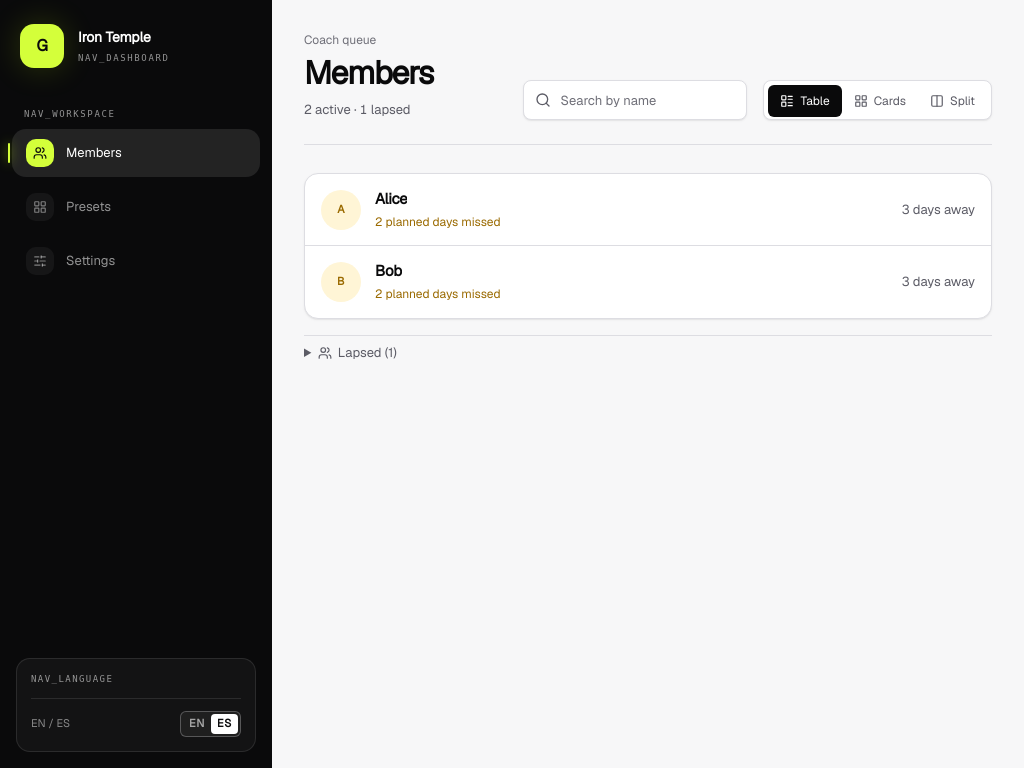
Scenario: RosterShell › filters members by search query
Expected: the text "Alice" is shown, [375,188,408,210]
Type "Alice" into the search field with placeholder "Search by name" at [635, 100], box [523,80,747,120]
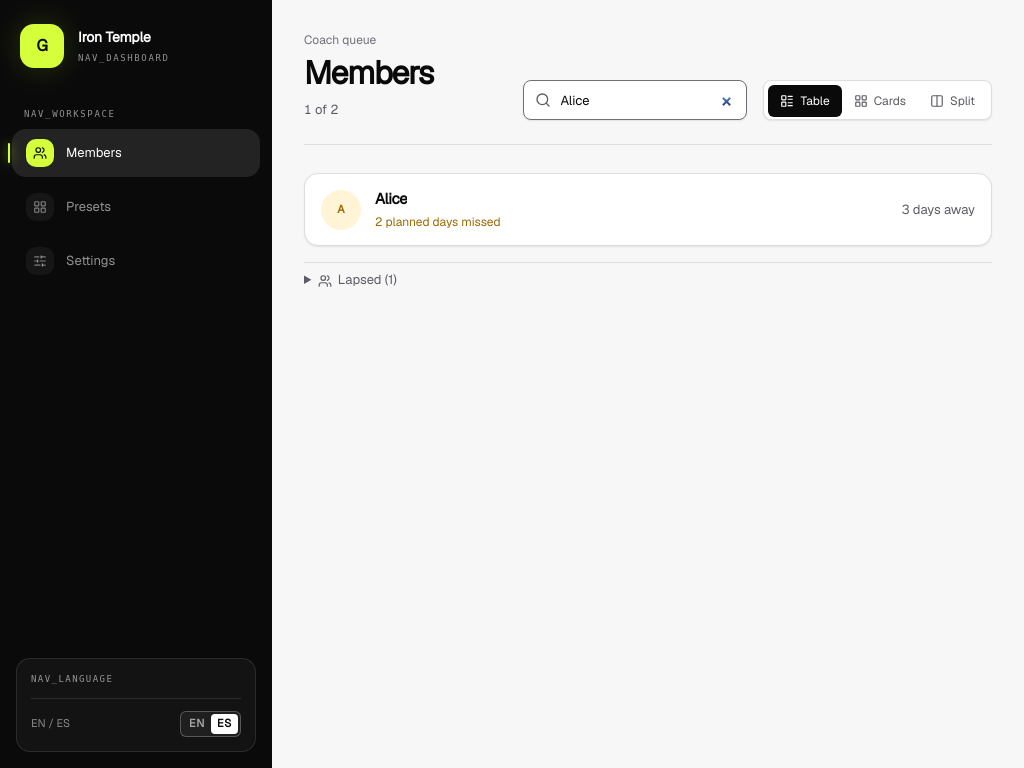
Expected: the text "Alice" is shown, [375,188,408,210]
Expected: the link "Bob" is gone
